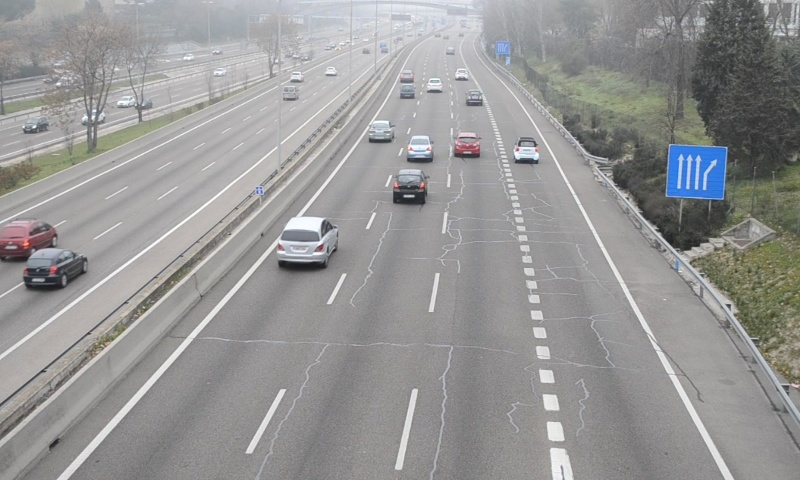car: (277, 216, 338, 265), (392, 168, 428, 203), (454, 131, 482, 159), (406, 135, 434, 162), (514, 136, 540, 164), (367, 118, 396, 142), (465, 89, 483, 107), (426, 76, 444, 93), (398, 84, 415, 100)
